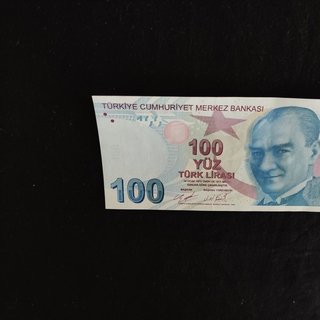100TLFront: (91, 94, 320, 213)
